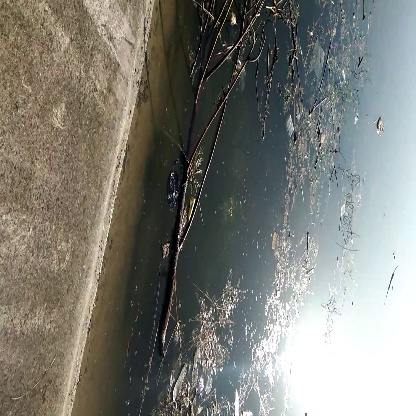branch: (156, 63, 211, 350)
